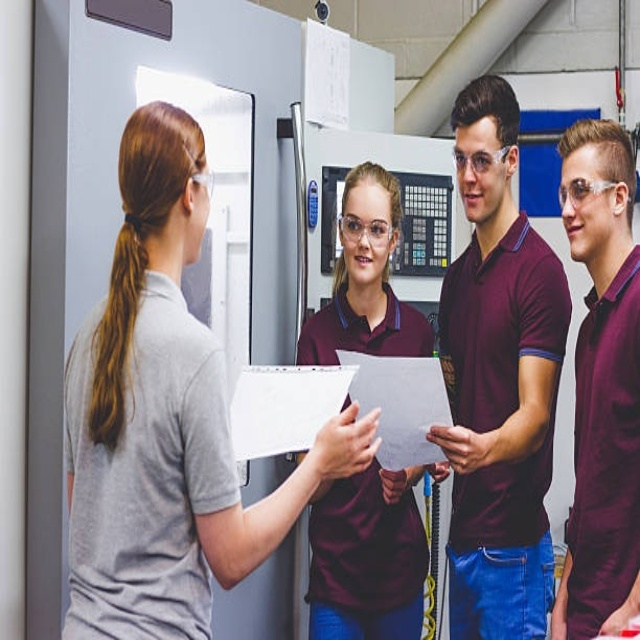Gafas: (558, 178, 622, 209), (339, 215, 395, 246), (451, 147, 509, 176), (190, 170, 215, 198)
Sin_guantes: (307, 397, 386, 483), (426, 416, 486, 478), (374, 463, 411, 504)
Sin_mascara: (350, 246, 375, 279), (564, 216, 588, 249), (463, 188, 487, 216)
